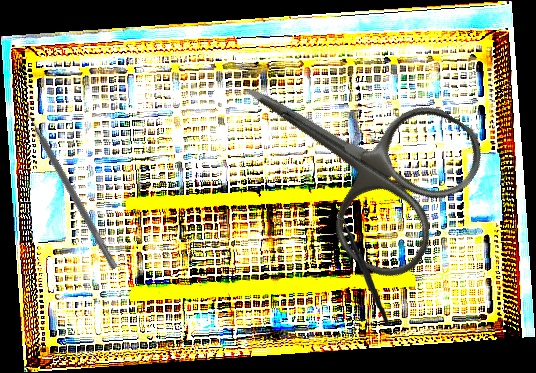Chopper: (333, 213, 391, 328)
Iris Scissors: (202, 15, 495, 290)
Spatula Surgical: (18, 100, 125, 271)
